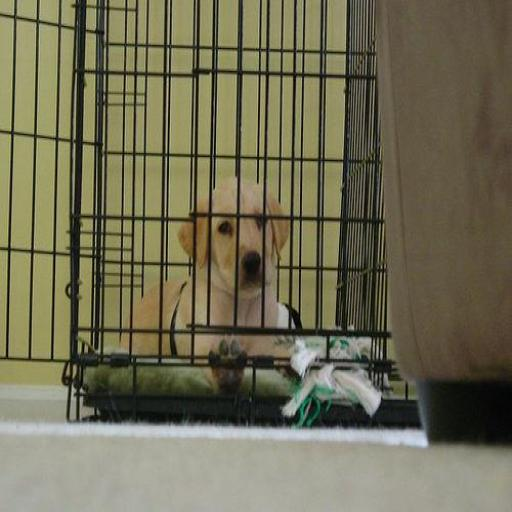dog_face: (183, 175, 302, 304)
